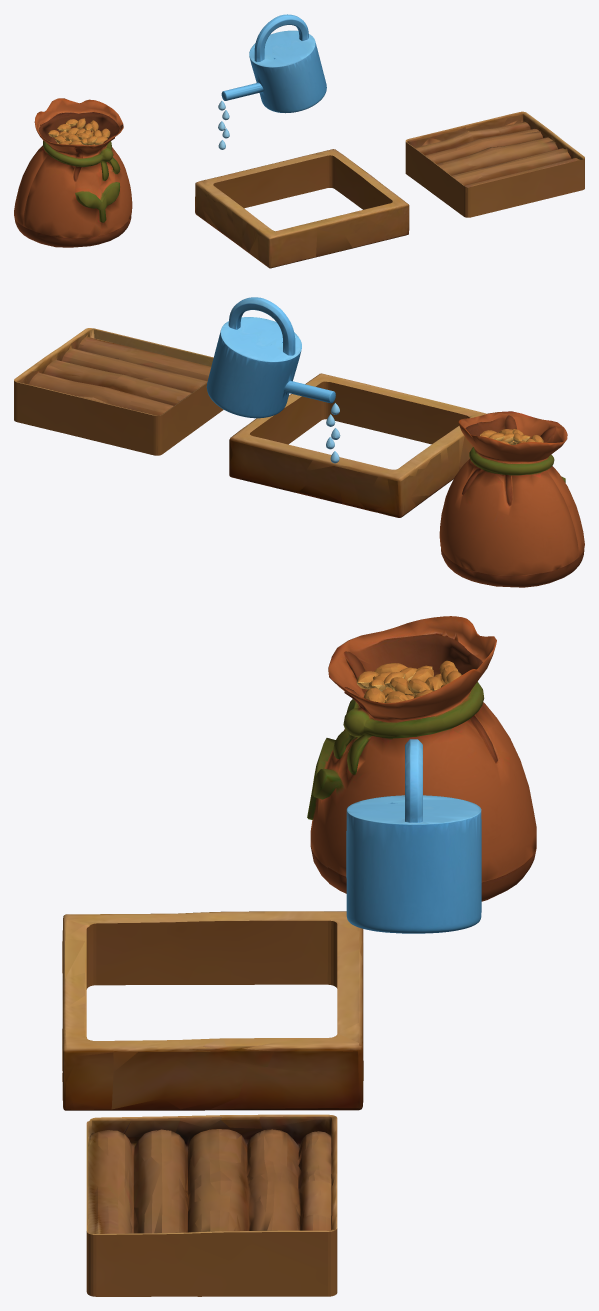
File: props.glb
The picture shows the model from 3 angles, top to bottom: view 1: azimuth 30°, elevation 25°; view 2: azimuth 150°, elevation 25°; view 3: azimuth 270°, elevation 25°; orthographic projection. The views are drawn at different scales.
Parts seen in each view (by area): view 1: farm scene 3d model_frame, seed 3d model.002, farm scene 3d model.022, blue watering can 3d model; view 2: seed 3d model.002, farm scene 3d model_frame, farm scene 3d model.022, blue watering can 3d model, blue watering can 3d model_water; view 3: farm scene 3d model_frame, farm scene 3d model.022, seed 3d model.002, blue watering can 3d model.
Part boxes in pixels (x1=…): farm scene 3d model_frame: x1=195, y1=149, x2=409, y2=268; seed 3d model.002: x1=14, y1=98, x2=132, y2=247; farm scene 3d model.022: x1=405, y1=111, x2=584, y2=217; blue watering can 3d model: x1=221, y1=14, x2=326, y2=113; seed 3d model.002: x1=439, y1=411, x2=584, y2=587; farm scene 3d model_frame: x1=229, y1=373, x2=486, y2=517; farm scene 3d model.022: x1=14, y1=328, x2=223, y2=455; blue watering can 3d model: x1=206, y1=297, x2=335, y2=418; blue watering can 3d model_water: x1=326, y1=403, x2=340, y2=463; farm scene 3d model_frame: x1=62, y1=911, x2=363, y2=1110; farm scene 3d model.022: x1=86, y1=1114, x2=337, y2=1296; seed 3d model.002: x1=307, y1=616, x2=536, y2=901; blue watering can 3d model: x1=346, y1=739, x2=481, y2=933.
Bounding box in the file's own units: 0.5507 × 0.1833 × 0.2349.
Materials: 4 (4 with a texture image).
